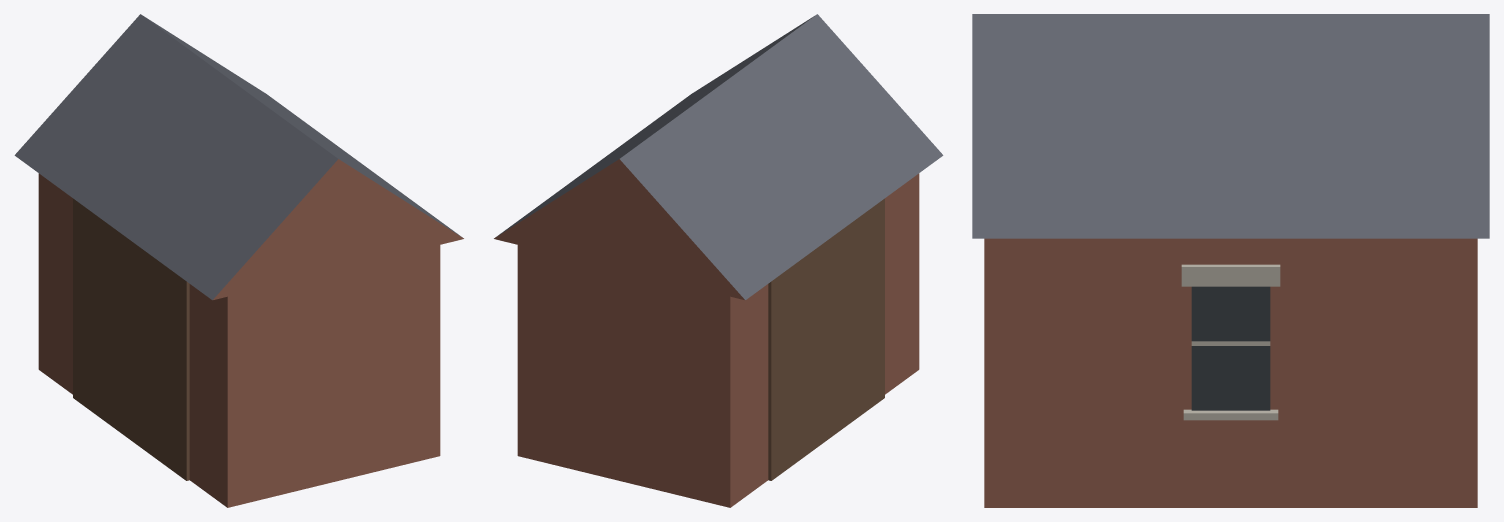
Rendered from house_1922_calumet_stable_strip__draft_1904.glb.
3 views of the same model, side by side, from view 1: azimuth 30°, elevation 25°; view 2: azimuth 150°, elevation 25°; view 3: azimuth 270°, elevation 25° (orthographic). The views are drawn at different scales.
Visible parts, largest first — view 1: house_1922_calumet_stable_strip__draft_1904; view 2: house_1922_calumet_stable_strip__draft_1904; view 3: house_1922_calumet_stable_strip__draft_1904.
Boxes of the visible parts, <box> form: house_1922_calumet_stable_strip__draft_1904: <box>14,14,463,507</box>; house_1922_calumet_stable_strip__draft_1904: <box>494,14,943,507</box>; house_1922_calumet_stable_strip__draft_1904: <box>972,14,1489,507</box>.
Size of the model in its own units: 3.85 by 4.76 by 5.24.
